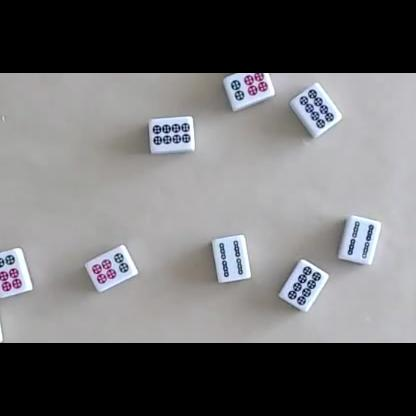4s: (348, 220, 374, 259), (218, 241, 244, 278)
6p: (91, 253, 129, 284), (230, 73, 267, 101), (0, 254, 22, 292)
8p: (299, 89, 334, 130), (288, 266, 321, 306), (152, 122, 191, 146)
